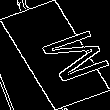M_SW: (12, 24, 98, 86)
